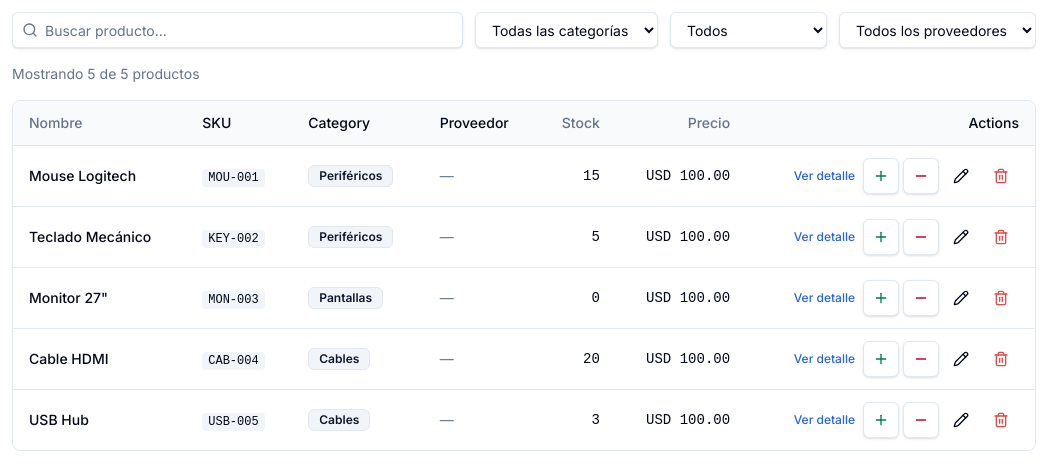
Test: ProductsFilters › AC-7: each active filter shows a '✕ Limpiar' button that clears only that filter
Type "Mouse" into the search field with test id "search-input". click: (238, 30)
box: [12, 12, 463, 48]
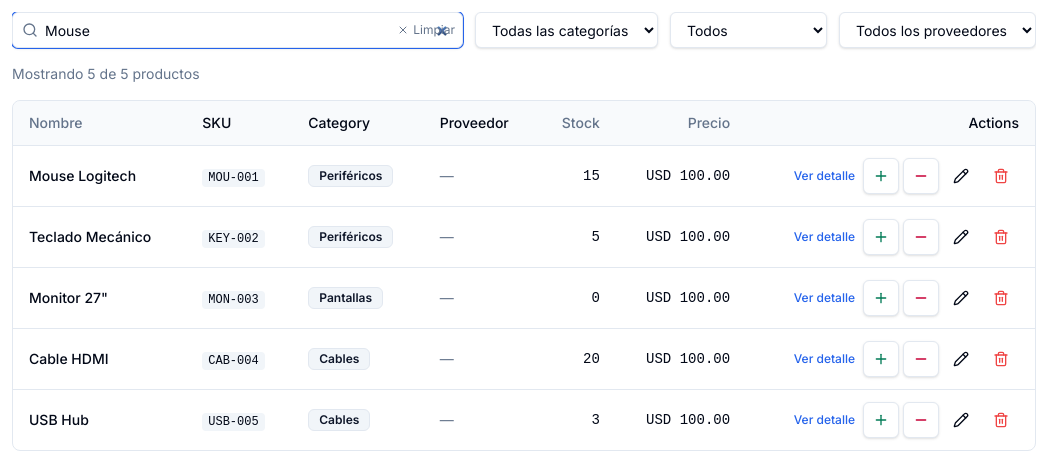
Select "Periféricos" in the dropdown with test id "category-filter". click: (566, 30)
box: [475, 12, 658, 48]
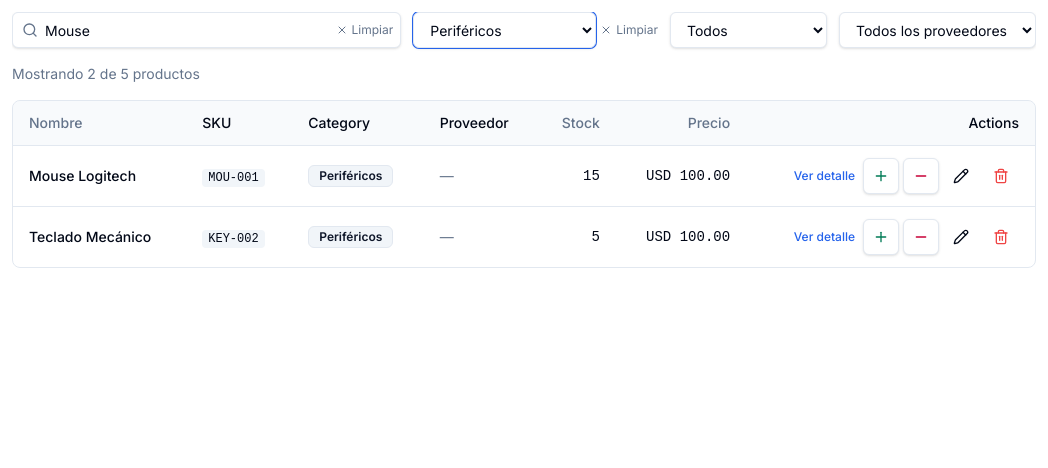
Select "En stock" in the dropdown with test id "stock-level-filter". click: (748, 30)
box: [670, 12, 827, 48]
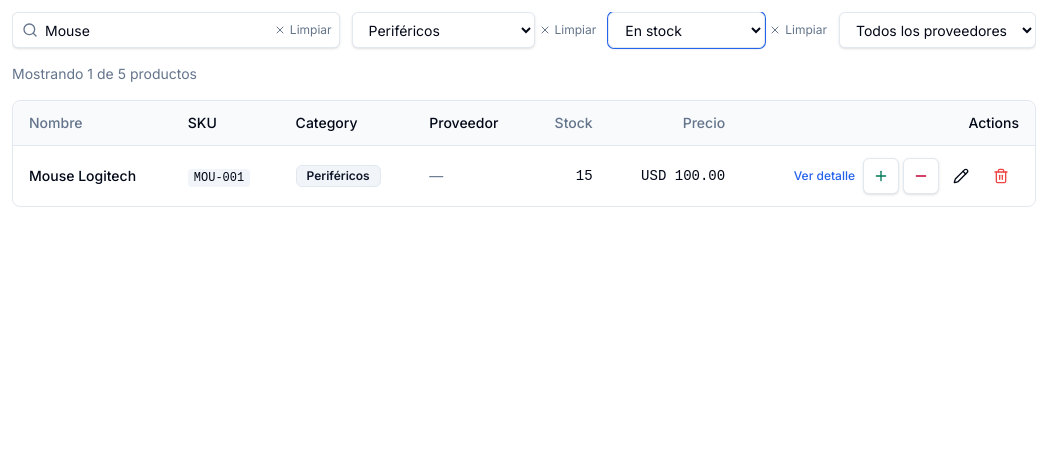
Expected: the button with test id "clear-search" reads "Limpiar"
Expected: the button with test id "clear-category" reads "Limpiar", [539, 22, 596, 38]
Expected: the button with test id "clear-stock-level" reads "Limpiar", [769, 22, 827, 38]
Click the button with test id "clear-search". click: (303, 30)
box: [274, 22, 332, 38]
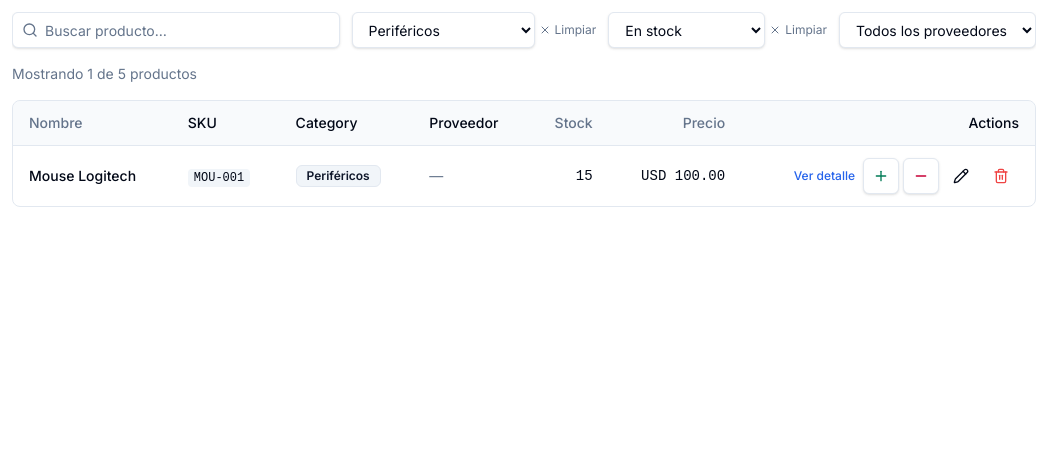
Expected: the search field with test id "search-input" is empty, [12, 12, 340, 48]
Expected: the button with test id "clear-search" is gone
Note: Click clearCategory — only category resets.
Click the button with test id "clear-category". click: (567, 30)
box: [539, 22, 596, 38]
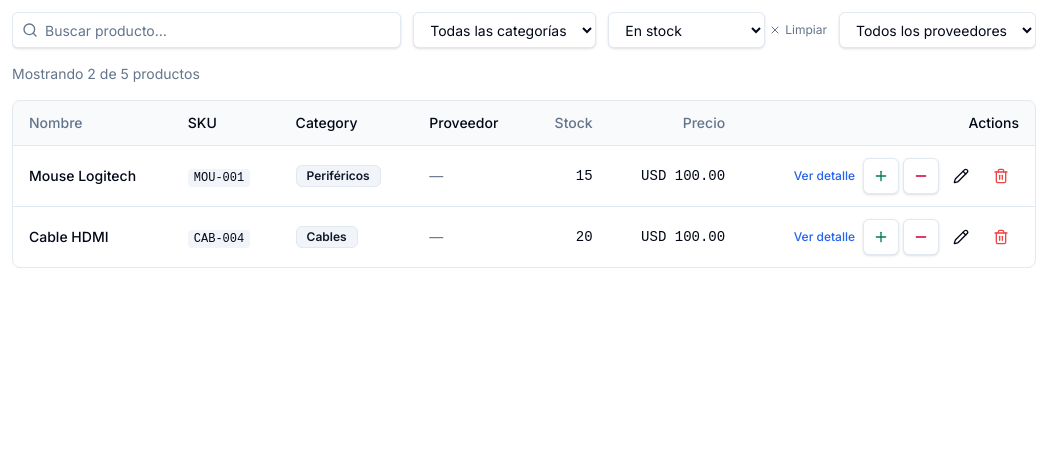
Expected: the button with test id "clear-category" is gone
Note: Click clearStock — only stock resets.
Click the button with test id "clear-stock-level". click: (798, 30)
box: [769, 22, 827, 38]
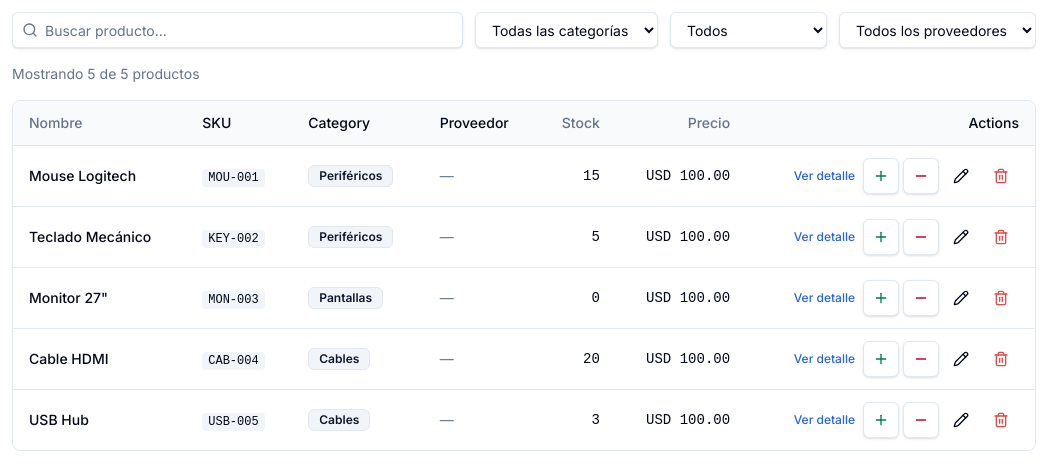
Expected: the button with test id "clear-stock-level" is gone
